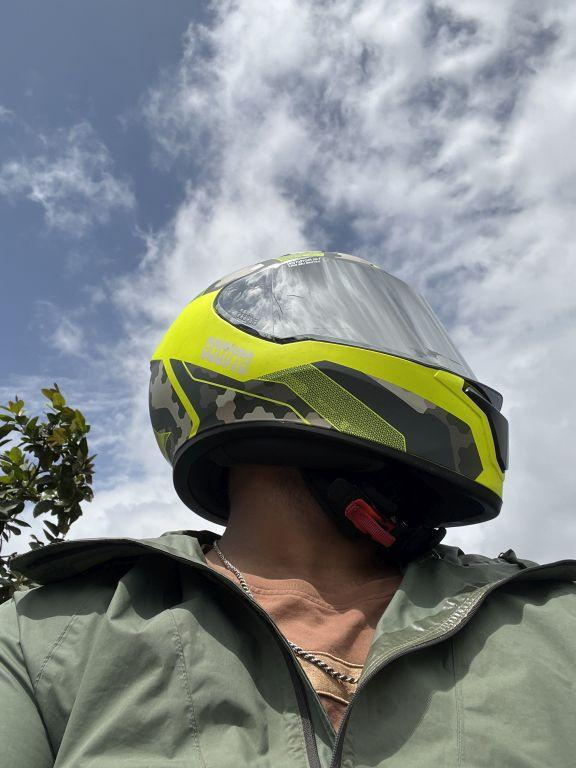helmet: (140, 239, 522, 585)
